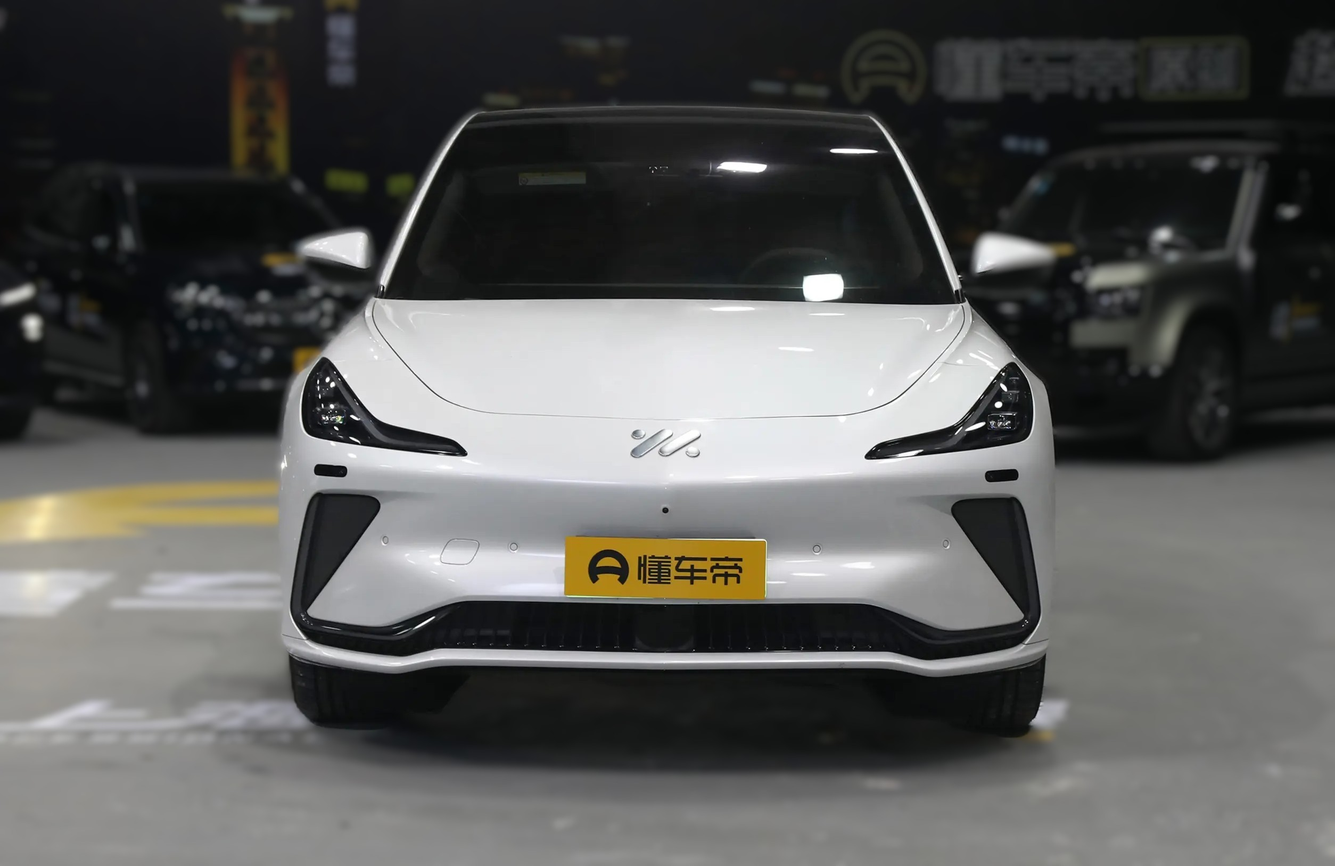IM: (631, 430, 701, 457)
